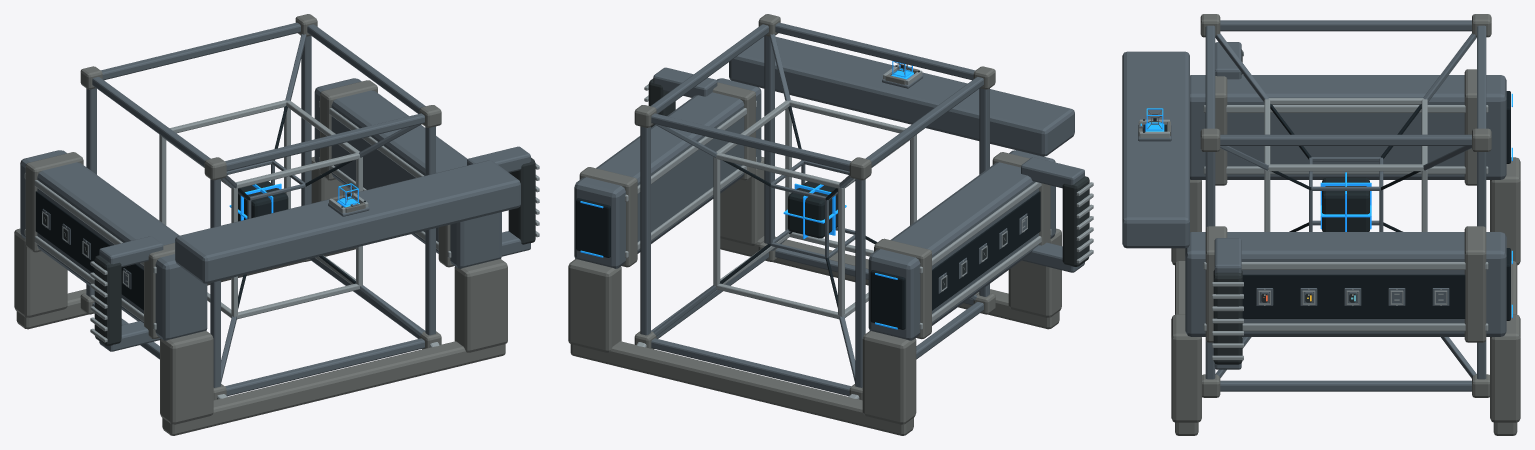
The model's file is TesseractRiftEngine.glb.
3 renders of one model, left to right at view 1: azimuth 30°, elevation 25°; view 2: azimuth 150°, elevation 25°; view 3: azimuth 270°, elevation 25°, orthographic. The views are drawn at different scales.
Parts seen in each view (by area): view 1: Tesseract_Rear_Dock_Bridge, Tesseract_Arm_Main_-1, Tesseract_Arm_Main_1, Tesseract_Suspension_Crossmember_0.075, Tesseract_Arm_Track_Rise_0.075_-1, Tesseract_Arm_Track_Rise_0.075_1, Tesseract_Arm_Track_Rise_0.545_-1, Tesseract_Arm_Outer_Inset_-1, Tesseract_Suspended_Outer_Edge_1_5, Tesseract_Suspended_Outer_Edge_3_7, Tesseract_Suspended_Outer_Edge_0_4, Tesseract_Side_Hold_-1 (+29 smaller); view 2: Tesseract_Rear_Dock_Bridge, Tesseract_Arm_Main_1, Tesseract_Arm_Main_-1, Tesseract_Suspension_Crossmember_0.545, Tesseract_Arm_Track_Rise_0.545_-1, Tesseract_Arm_Track_Rise_0.545_1, Tesseract_Arm_Outer_Inset_-1, Tesseract_Arm_Track_Rise_0.075_1, Tesseract_Arm_Track_Rise_0.075_-1, Tesseract_Suspension_Crossmember_0.075, Tesseract_Suspended_Outer_Edge_6_7, Tesseract_Suspended_Outer_Edge_1_5 (+34 smaller); view 3: Tesseract_Arm_Main_-1, Tesseract_Arm_Main_1, Tesseract_Rear_Dock_Bridge, Tesseract_Arm_Outer_Inset_1, Tesseract_Suspended_Outer_Edge_1_3, Tesseract_Suspended_Outer_Edge_4_6, Tesseract_Suspended_Outer_Edge_5_7, Tesseract_Arm_Track_Rise_0.075_1, Tesseract_Arm_Track_Rise_0.545_1, Tesseract_Arm_End_Armor_1_0.191, Tesseract_Arm_Track_Rise_0.545_-1, Tesseract_Rift_Dark_Volume (+26 smaller).
Boxes of the visible parts, left/top/right/bottom form: Tesseract_Rear_Dock_Bridge: left=175, top=160, right=520, bottom=283; Tesseract_Arm_Main_-1: left=20, top=150, right=207, bottom=340; Tesseract_Arm_Main_1: left=314, top=78, right=501, bottom=268; Tesseract_Suspension_Crossmember_0.075: left=162, top=341, right=505, bottom=435; Tesseract_Arm_Track_Rise_0.075_-1: left=160, top=331, right=213, bottom=424; Tesseract_Arm_Track_Rise_0.075_1: left=454, top=259, right=507, bottom=352; Tesseract_Arm_Track_Rise_0.545_-1: left=14, top=228, right=67, bottom=317; Tesseract_Arm_Outer_Inset_-1: left=35, top=191, right=143, bottom=310; Tesseract_Suspended_Outer_Edge_1_5: left=225, top=113, right=424, bottom=171; Tesseract_Suspended_Outer_Edge_3_7: left=101, top=22, right=300, bottom=80; Tesseract_Suspended_Outer_Edge_0_4: left=225, top=338, right=424, bottom=396; Tesseract_Side_Hold_-1: left=94, top=255, right=121, bottom=345; Tesseract_Rear_Dock_Bridge: left=729, top=36, right=1074, bottom=156; Tesseract_Arm_Main_1: left=574, top=78, right=761, bottom=268; Tesseract_Arm_Main_-1: left=868, top=150, right=1055, bottom=340; Tesseract_Suspension_Crossmember_0.545: left=570, top=341, right=913, bottom=435; Tesseract_Arm_Track_Rise_0.545_-1: left=862, top=331, right=916, bottom=424; Tesseract_Arm_Track_Rise_0.545_1: left=568, top=259, right=621, bottom=352; Tesseract_Arm_Outer_Inset_-1: left=932, top=191, right=1040, bottom=310; Tesseract_Arm_Track_Rise_0.075_1: left=720, top=156, right=764, bottom=245; Tesseract_Arm_Track_Rise_0.075_-1: left=1008, top=228, right=1061, bottom=317; Tesseract_Suspension_Crossmember_0.075: left=720, top=236, right=1059, bottom=329; Tesseract_Suspended_Outer_Edge_6_7: left=640, top=126, right=650, bottom=335; Tesseract_Suspended_Outer_Edge_1_5: left=775, top=22, right=975, bottom=80; Tesseract_Arm_Main_-1: left=1190, top=75, right=1506, bottom=179; Tesseract_Arm_Main_1: left=1185, top=232, right=1506, bottom=336; Tesseract_Rear_Dock_Bridge: left=1122, top=51, right=1189, bottom=248; Tesseract_Arm_Outer_Inset_1: left=1242, top=274, right=1465, bottom=318; Tesseract_Suspended_Outer_Edge_1_3: left=1220, top=20, right=1471, bottom=31; Tesseract_Suspended_Outer_Edge_4_6: left=1220, top=380, right=1471, bottom=391; Tesseract_Suspended_Outer_Edge_5_7: left=1220, top=134, right=1471, bottom=145; Tesseract_Arm_Track_Rise_0.075_1: left=1171, top=314, right=1201, bottom=422; Tesseract_Arm_Track_Rise_0.545_1: left=1490, top=314, right=1520, bottom=422; Tesseract_Arm_End_Armor_1_0.191: left=1464, top=226, right=1486, bottom=342; Tesseract_Arm_Track_Rise_0.545_-1: left=1490, top=157, right=1520, bottom=265; Tesseract_Rift_Dark_Volume: left=1322, top=177, right=1369, bottom=231.
Size of the model in its own units: 0.81 by 0.446 by 0.5875.
